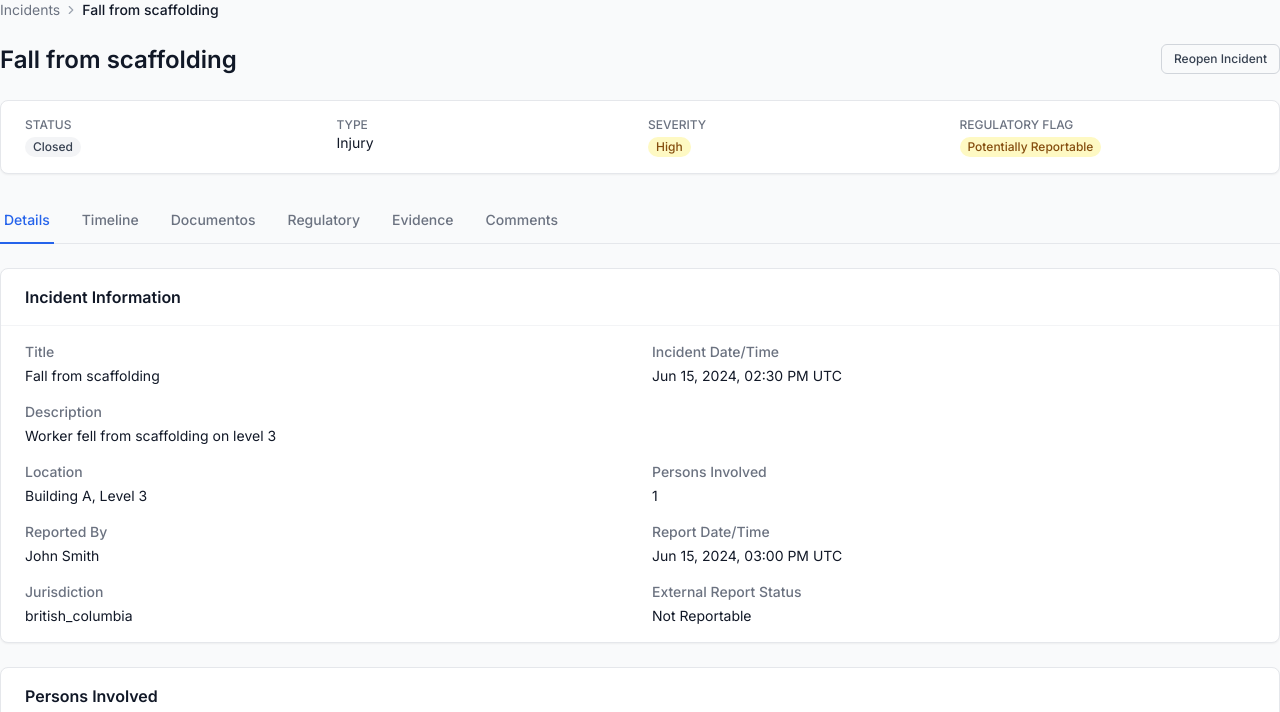
Test: IncidentDetailPage › Reopen dialog › opens reopen dialog when Reopen Incident button is clicked
# Click the header "Reopen Incident" button
Click the button "Reopen Incident": (1220, 59) [1161,44,1279,74]
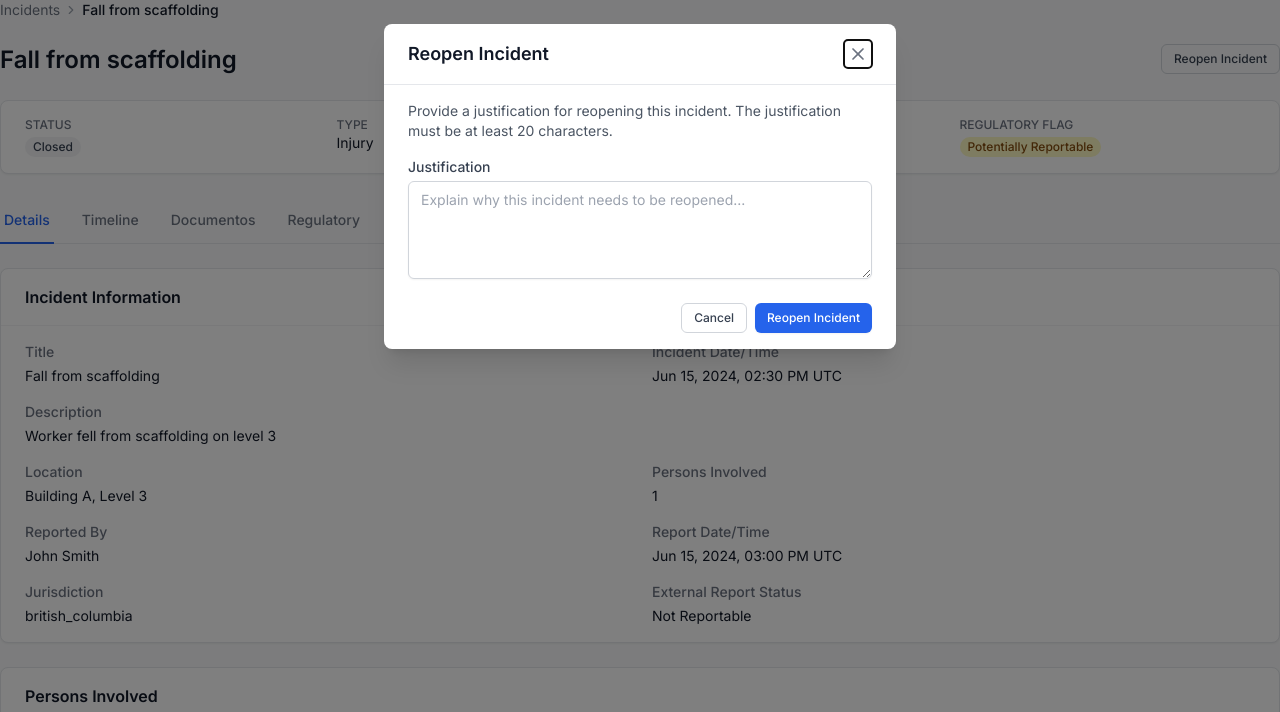
Expected: the text "Provide a justification for reopening" is shown, [408,102,841,139]
Expected: the text box labelled "Justification" is shown, [408,181,872,279]
